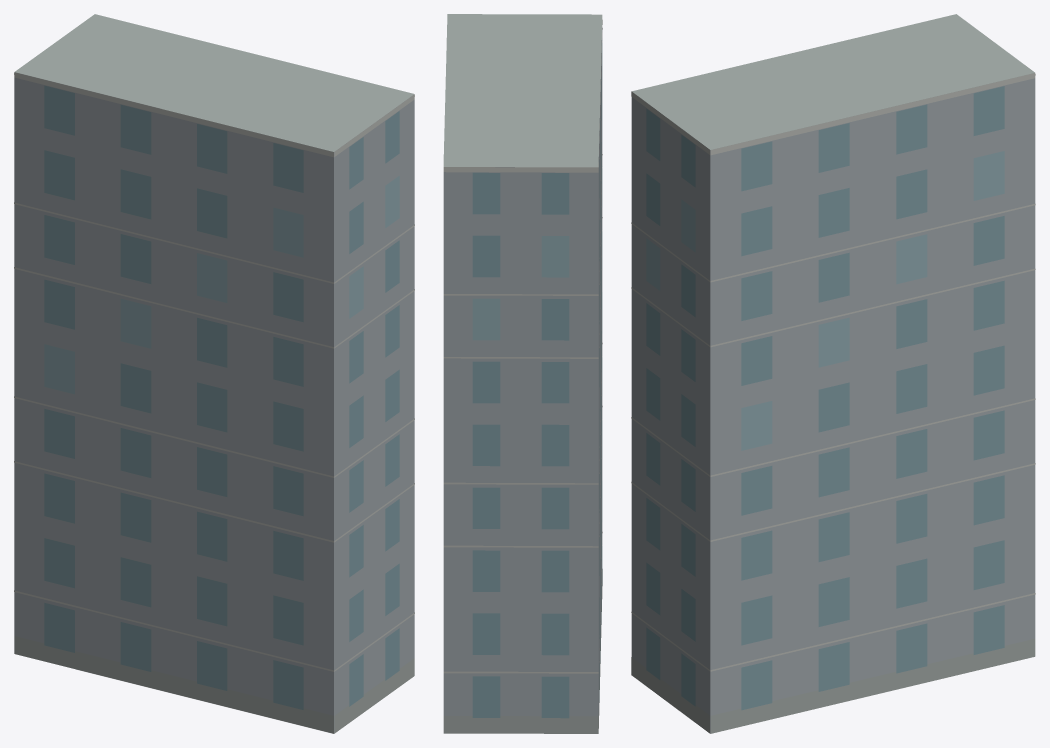
File: survey-upis-32789620.glb
The picture shows the model from 3 angles, left to right: view 1: azimuth 30°, elevation 25°; view 2: azimuth 150°, elevation 25°; view 3: azimuth 270°, elevation 25°; orthographic projection. The views are drawn at different scales.
Visible parts, largest first — view 1: survey-upis-32789620.tmp; view 2: survey-upis-32789620.tmp; view 3: survey-upis-32789620.tmp.
Part boxes in pixels (box(x1,y1,x2,y2)): survey-upis-32789620.tmp: box(14, 14, 414, 733); survey-upis-32789620.tmp: box(443, 14, 602, 733); survey-upis-32789620.tmp: box(631, 14, 1035, 733).
Size of the model in its own units: 13.21 by 26.4 by 16.57.
